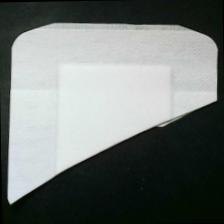Cut: (1, 16, 222, 212)
